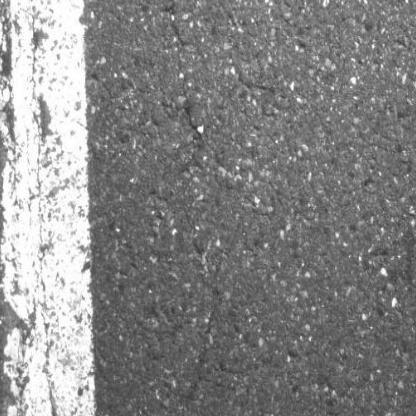Cracks: (158, 0, 208, 142), (178, 304, 221, 416)
